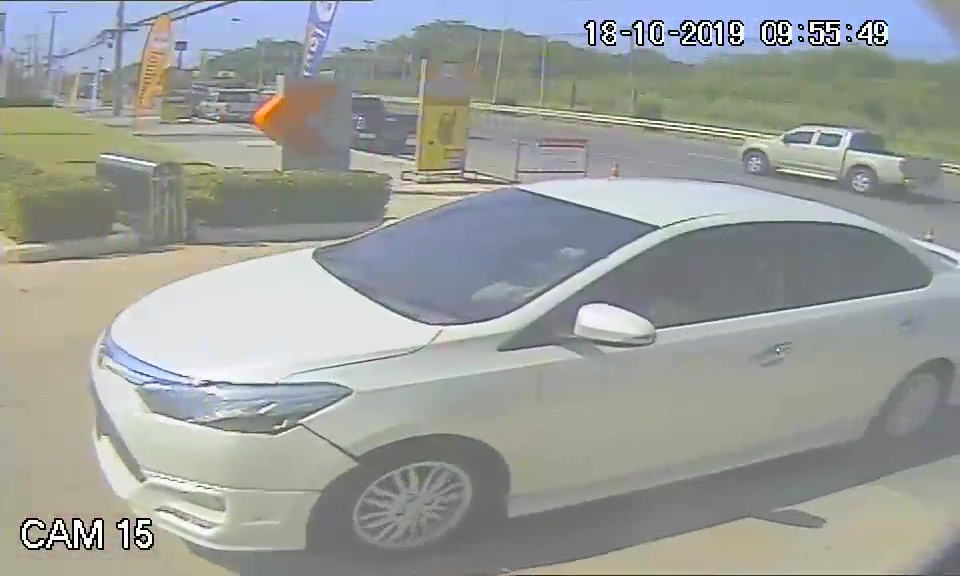sedan: (76, 177, 886, 556)
